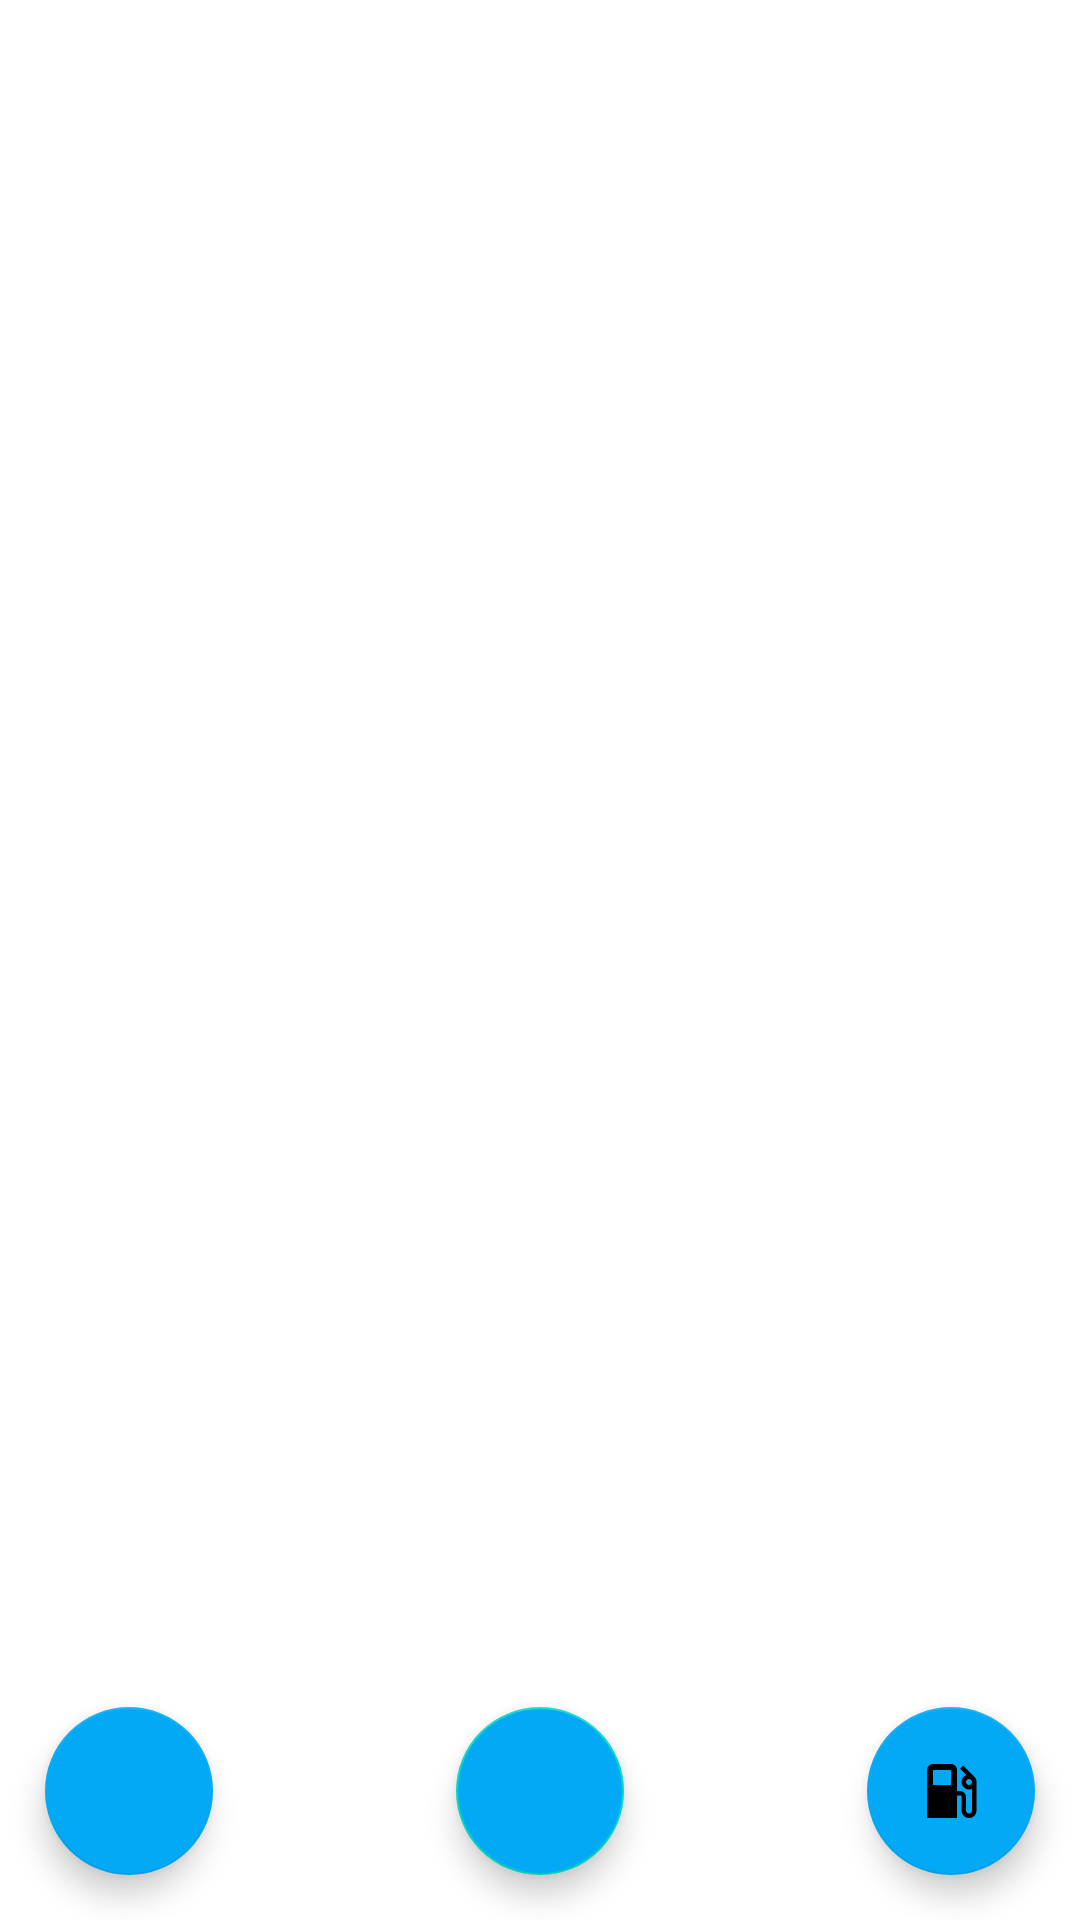

Point at icon controls on the screen. Image size 1080 × 1920, points as point (x, y).
fuel: point (951, 1791)
